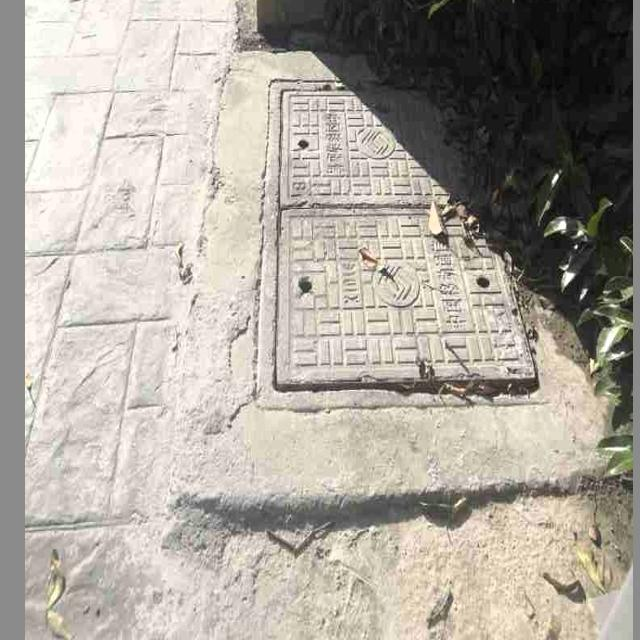good: (253, 79, 552, 403)
